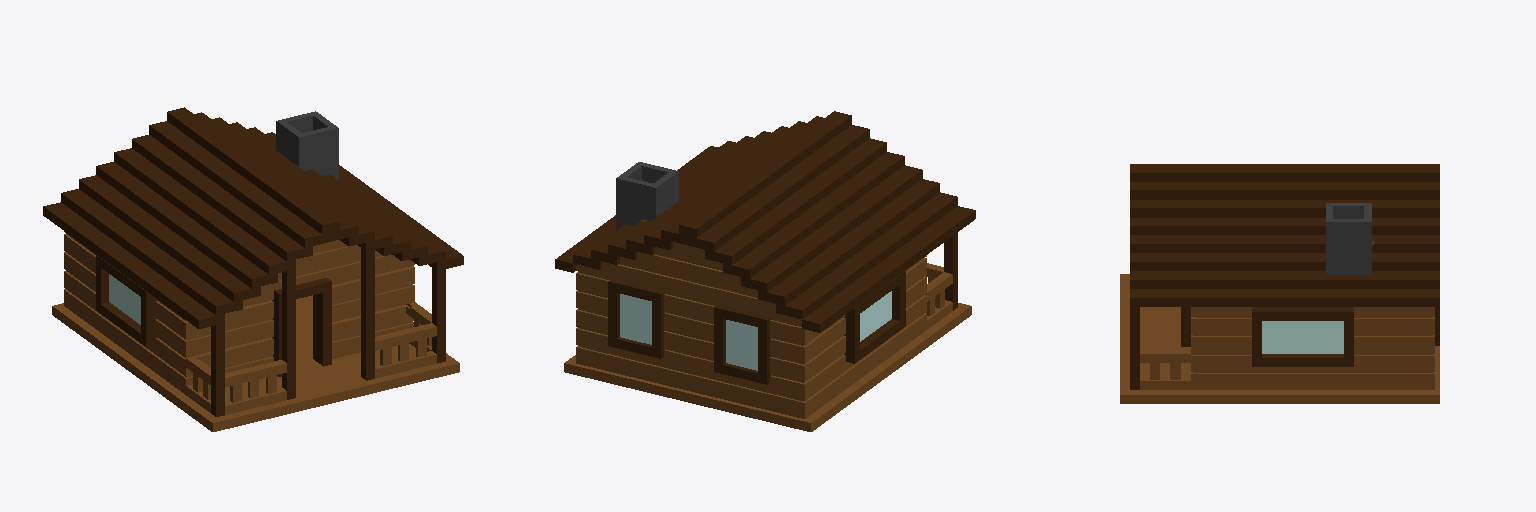
3 renders of one model, left to right at view 1: azimuth 30°, elevation 25°; view 2: azimuth 150°, elevation 25°; view 3: azimuth 270°, elevation 25°, orthographic.
Visible parts, largest first — view 1: Shed; view 2: Shed; view 3: Shed.
Part boxes in pixels (bbox=[...]): Shed: bbox=[43, 107, 463, 431]; Shed: bbox=[555, 111, 975, 431]; Shed: bbox=[1120, 164, 1439, 403].
Size of the model in its own units: 120 by 76 by 126.
1 materials, 1 textured.